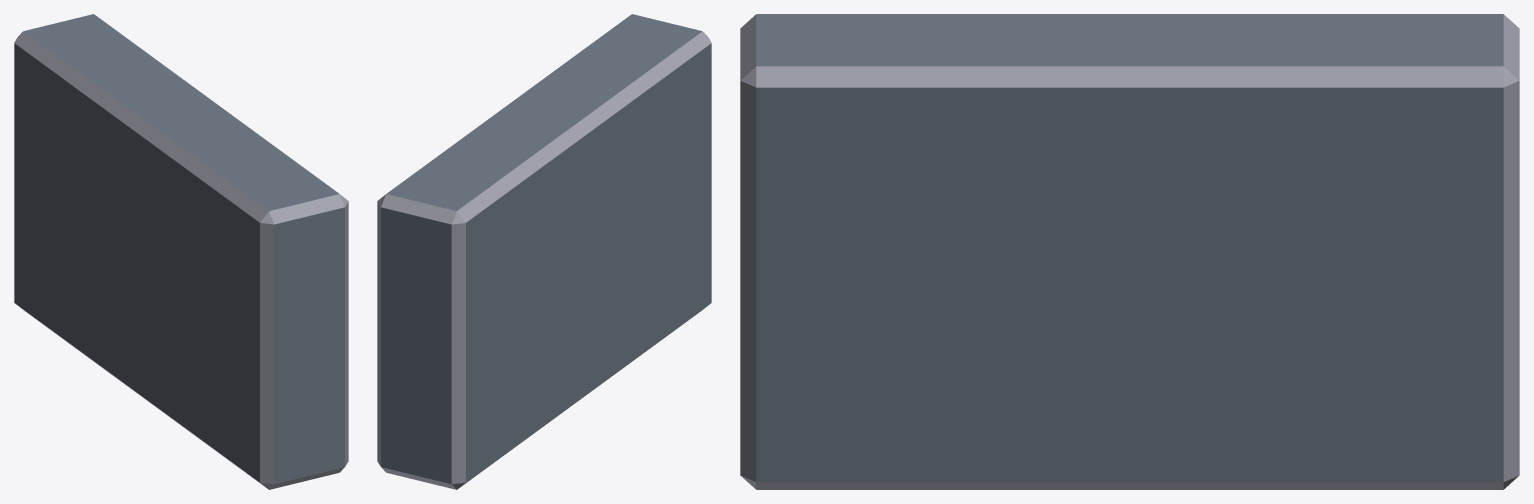
Rendered from Wall_D_3_1.fbx.
3 renders of one model, left to right at view 1: azimuth 30°, elevation 25°; view 2: azimuth 150°, elevation 25°; view 3: azimuth 270°, elevation 25°, orthographic. The views are drawn at different scales.
Parts seen in each view (by area): view 1: Wall_D_3_1; view 2: Wall_D_3_1; view 3: Wall_D_3_1.
Part boxes in pixels (x1,y1,x2,y2): Wall_D_3_1: (14, 14, 348, 489); Wall_D_3_1: (377, 14, 711, 489); Wall_D_3_1: (740, 14, 1519, 489).
Bounding box in the file's own units: 40 × 120 × 200.
